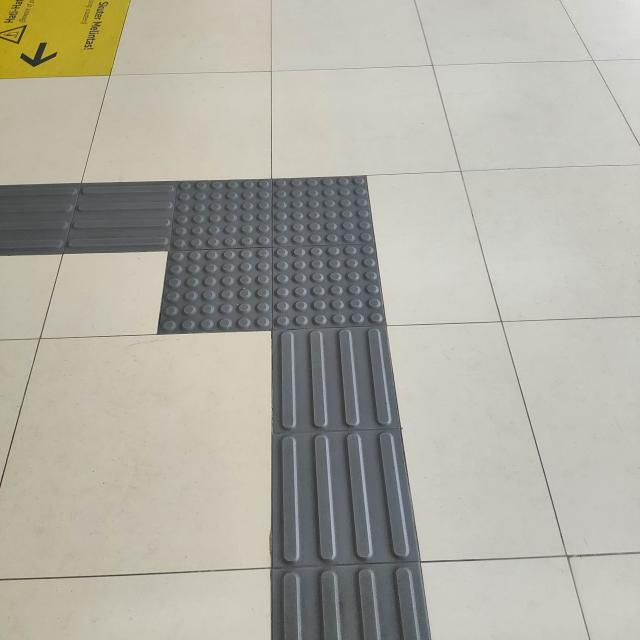kiri: (29, 133, 486, 440)
